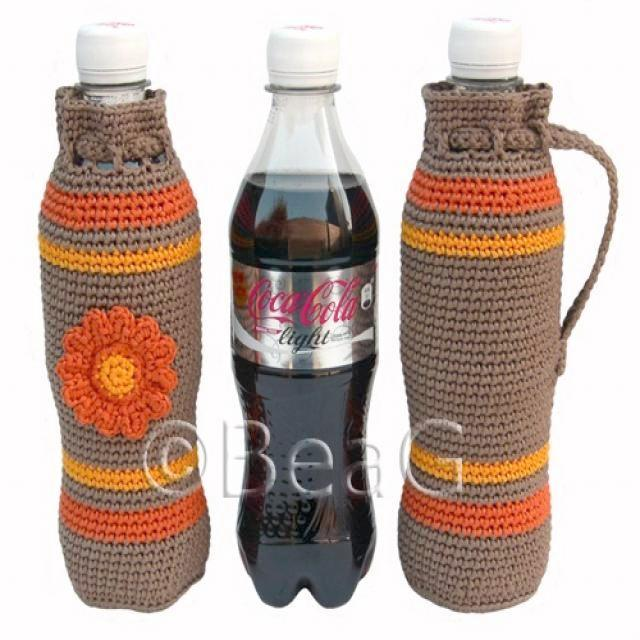bottle: (229, 26, 379, 609)
